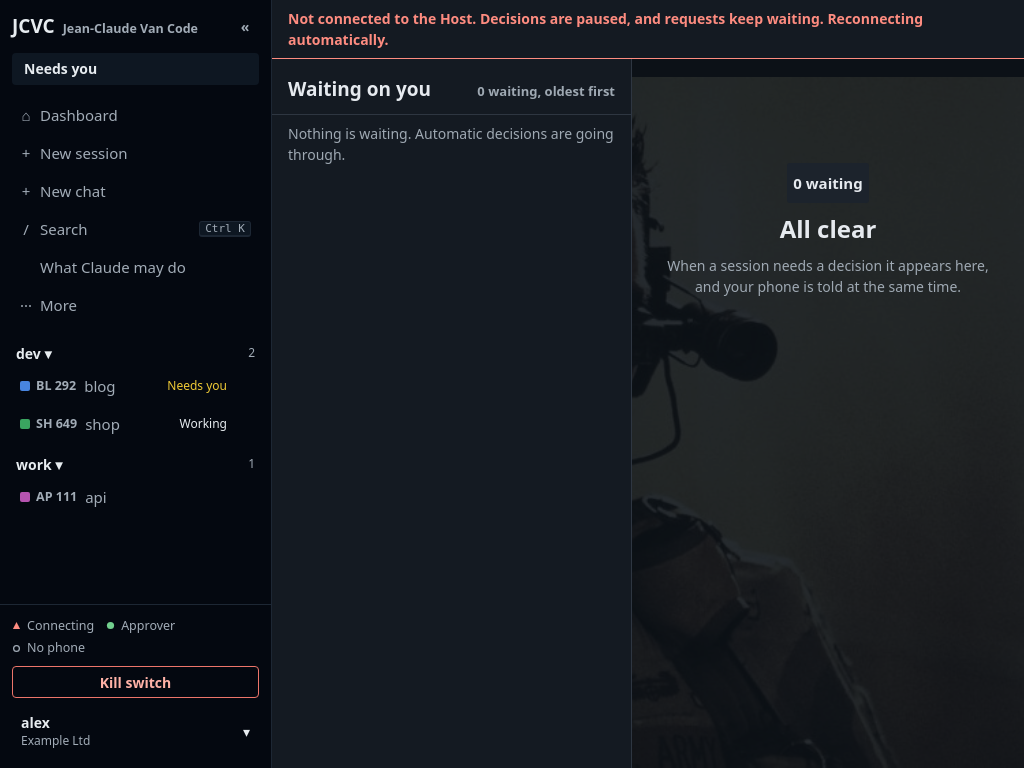
Test: the sidebar › closes a menu with Esc and gives focus back to its button
The width and height of the screenshot is (1024, 768).
Click the button with aria-label "More pages" at (136, 304), box [8,286,263,322]
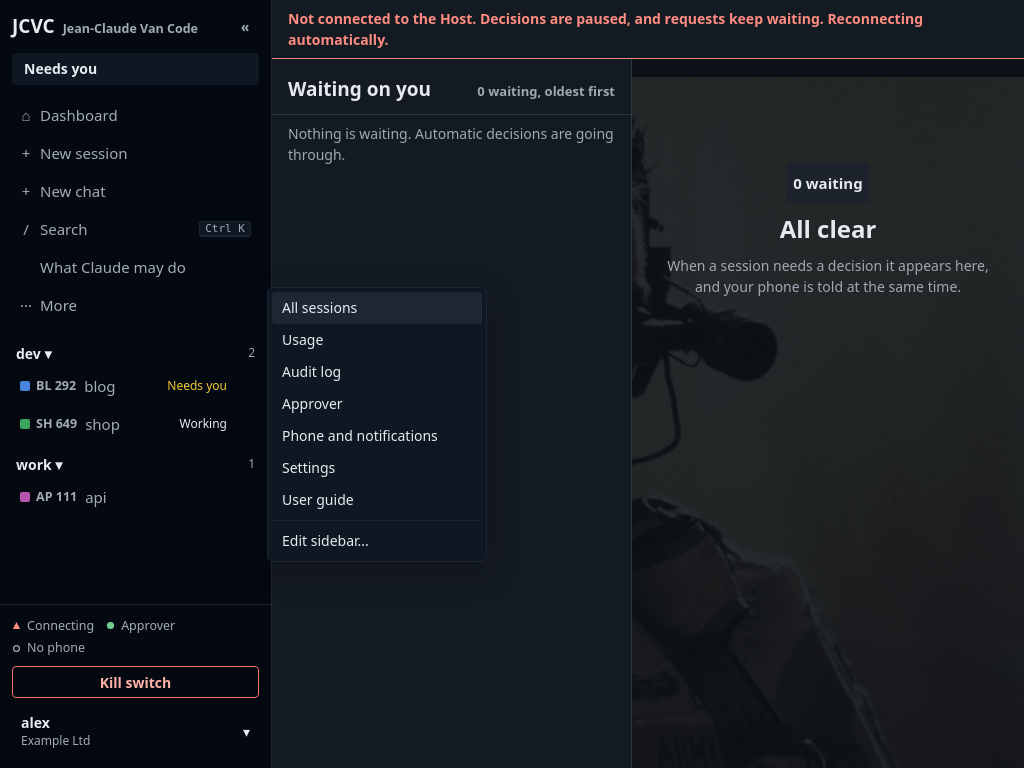
Press Escape in the menu, box [267,286,487,562]
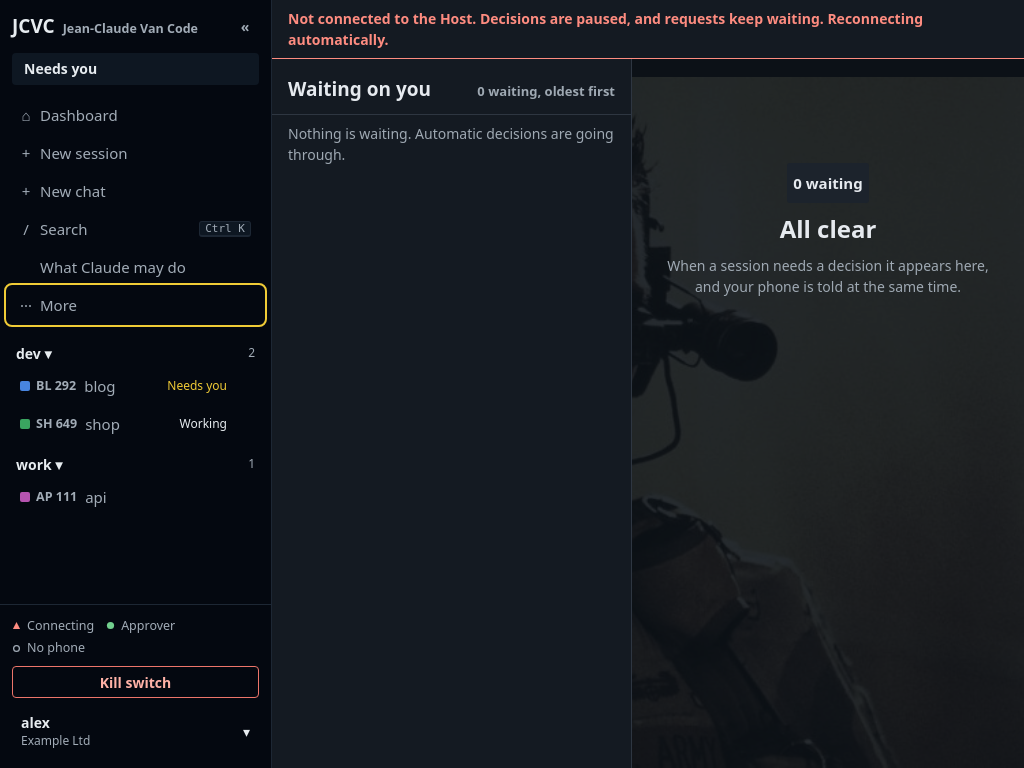
Expected: the menu is gone
